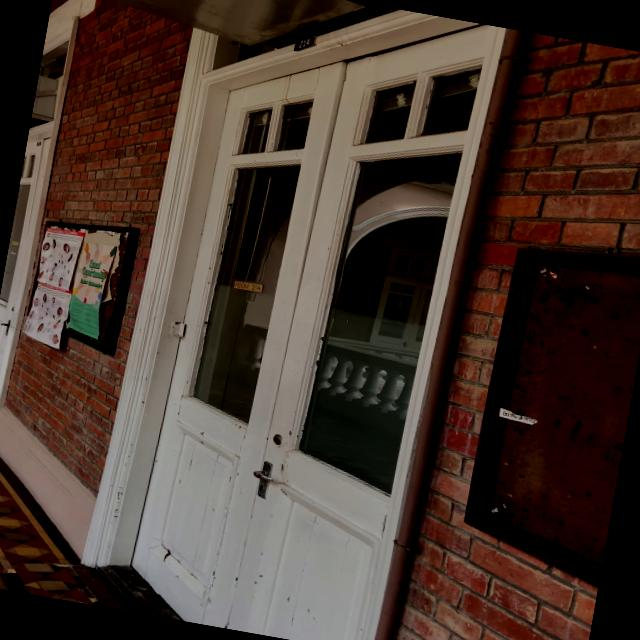room214: (292, 32, 316, 54)
room214Window: (230, 277, 268, 295)
